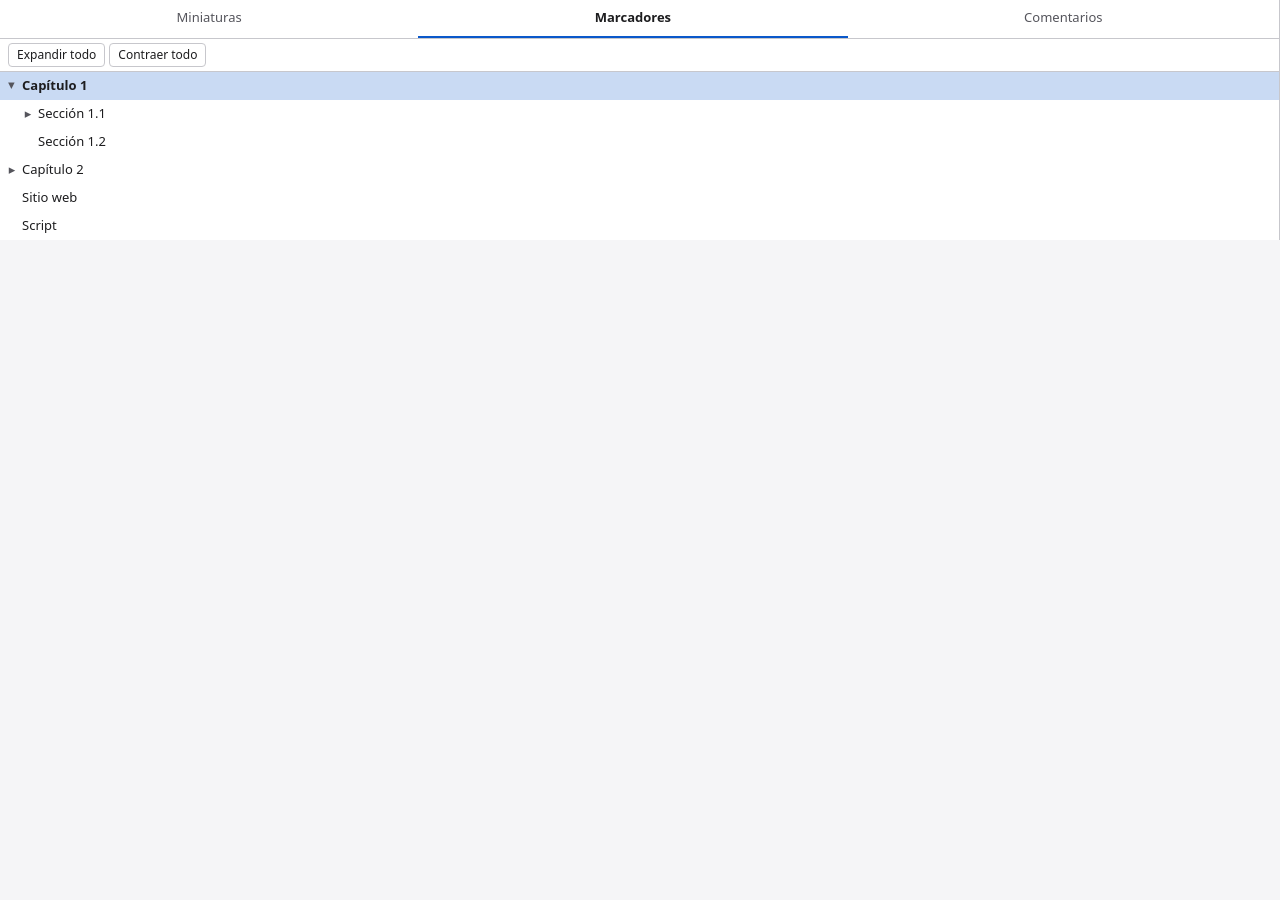
Test: Marcadores · activar › un marcador externo pide confirmación; «Abrir» abre la URL y «Cancelar» no hace nada
Later steps or results of the test are not shown.
Click the list item "Sitio web": (50, 197) [22,188,77,206]
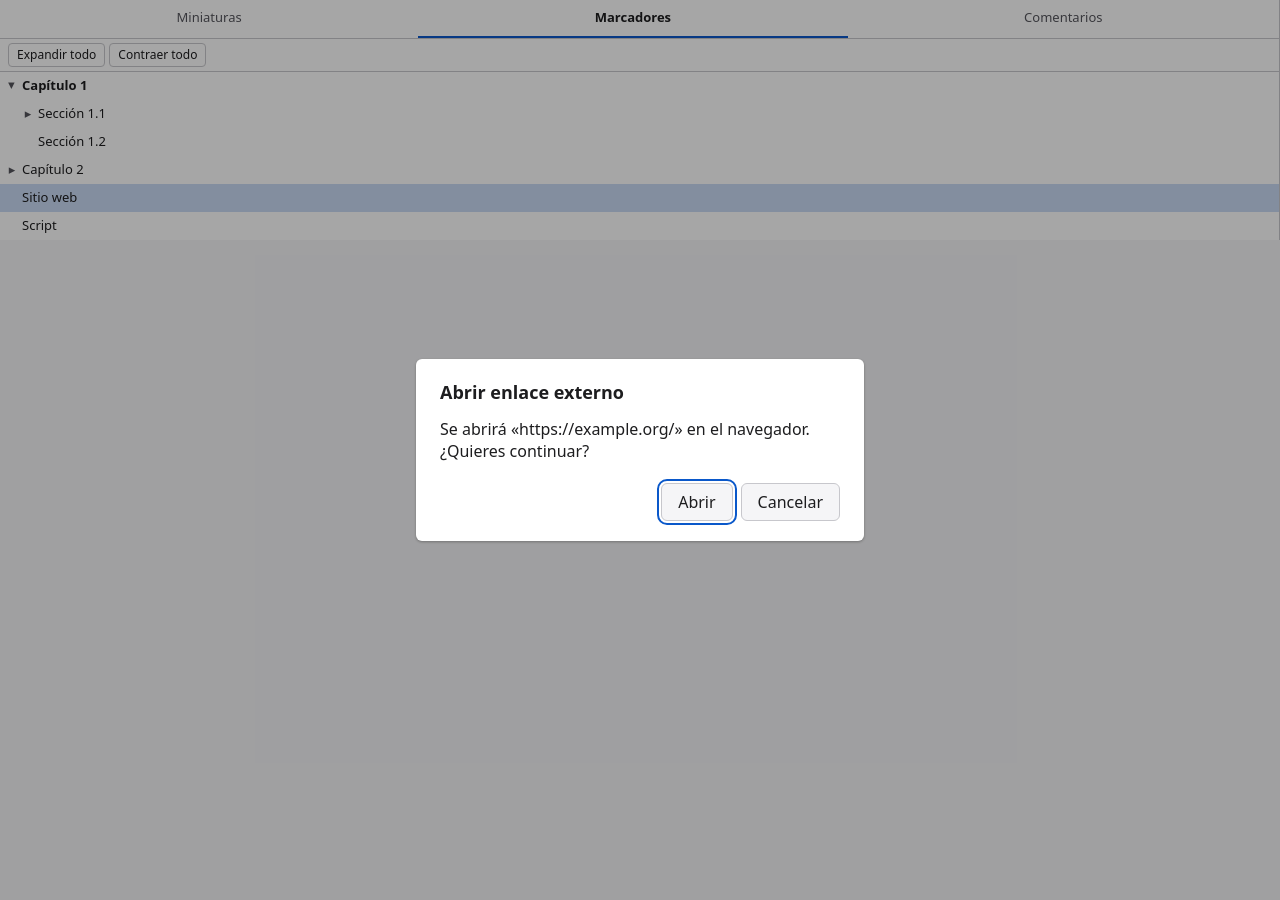
Click the button "Cancelar": (790, 502) [741,482,840,521]
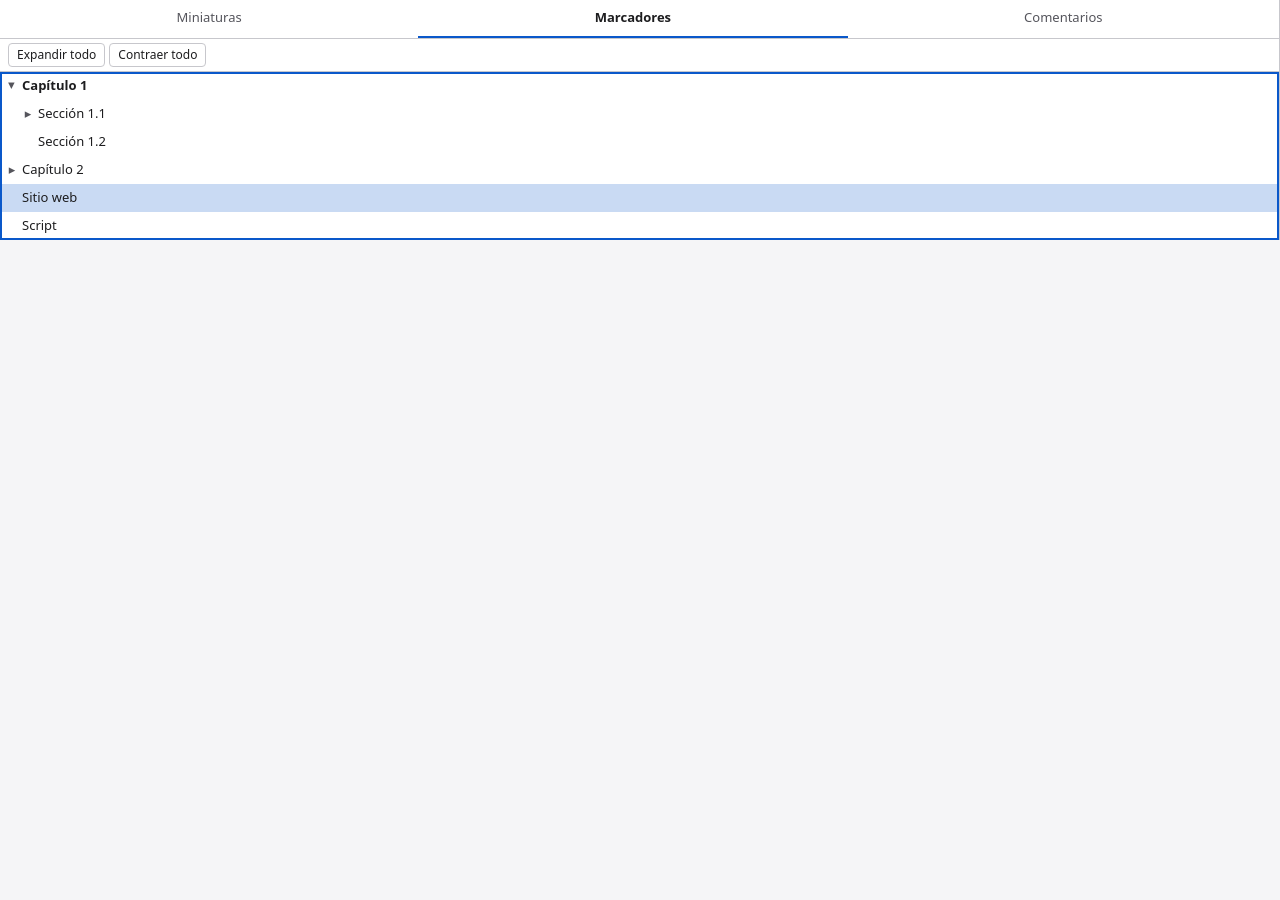
Expected: the dialog is gone
